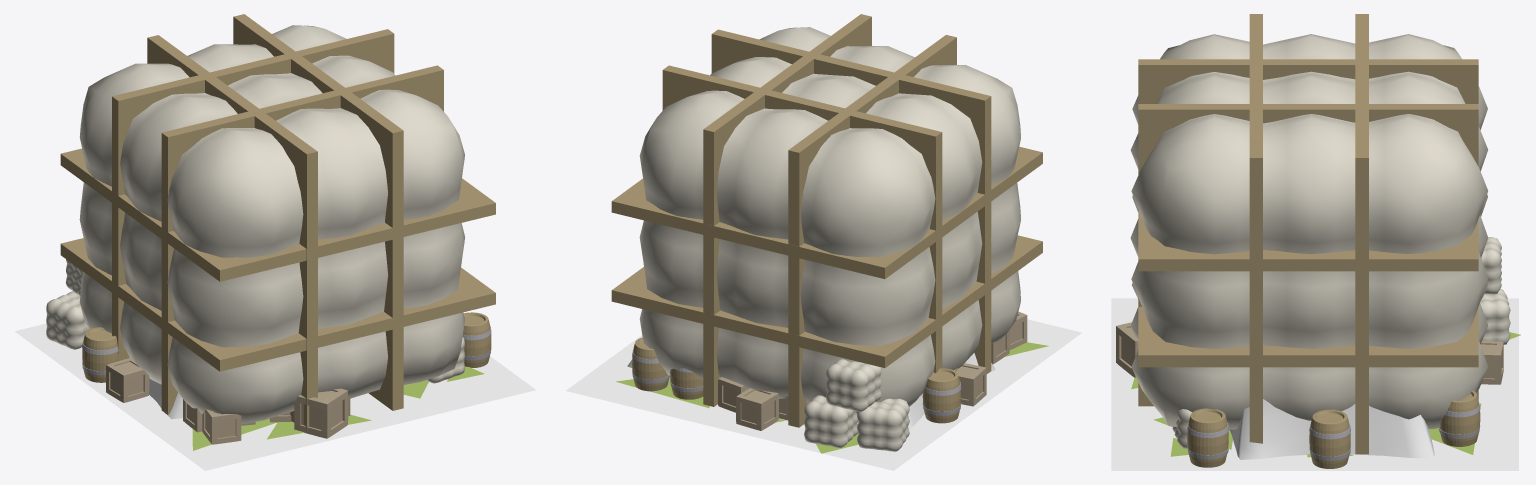
The model's file is storagetent.fbx.
3 renders of one model, left to right at view 1: azimuth 30°, elevation 25°; view 2: azimuth 150°, elevation 25°; view 3: azimuth 270°, elevation 25°, orthographic. The views are drawn at different scales.
Parts seen in each view (by area): view 1: Cube.017, Cube.018, Plane.001, Cube.024, Cube.015, Cube.019, Cylinder.013, Cylinder.004, Cube.004; view 2: Cube.017, Cube.018, Plane.001, Cube.016, Cube.015, Cube.014, Cube.008, Cylinder.013, Cylinder.007, Cube.019, Cylinder.011, Cube.007 (+1 smaller); view 3: Cube.017, Cube.018, Plane.001, Cube, Cylinder.008, Cylinder.004, Cylinder.007, Cube.014, Cube.016, Cube.024, Cube.008, Cube.011 (+2 smaller).
Boxes of the visible parts, x1,y1,x2,y2 form: Cube.017: (79,25,465,424); Cube.018: (60,14,495,431); Plane.001: (15,323,535,470); Cube.024: (294,388,348,438); Cube.015: (46,291,89,349); Cube.019: (106,357,149,402); Cylinder.013: (82,327,118,382); Cylinder.004: (463,312,491,367); Cube.004: (202,409,241,444); Cube.017: (639,27,1020,413); Cube.018: (611,14,1042,427); Plane.001: (566,319,1081,470); Cube.016: (826,359,881,411); Cube.015: (857,398,909,451); Cube.014: (804,395,857,447); Cube.008: (736,388,778,430); Cylinder.013: (922,368,960,423); Cylinder.007: (632,337,668,391); Cube.019: (953,363,986,406); Cylinder.011: (670,369,703,399); Cube.007: (718,377,746,412); Cube.017: (1130,34,1488,429); Cube.018: (1138,14,1478,454); Plane.001: (1111,298,1518,470); Cube: (1229,399,1434,459); Cylinder.008: (1309,409,1350,468); Cylinder.004: (1187,408,1228,467); Cylinder.007: (1440,390,1480,446); Cube.014: (1480,289,1510,344); Cube.016: (1481,237,1501,294); Cube.024: (1116,322,1138,377); Cube.008: (1480,340,1503,384); Cube.011: (1172,409,1191,448).
Size of the model in its own units: 401 by 331 by 403.
